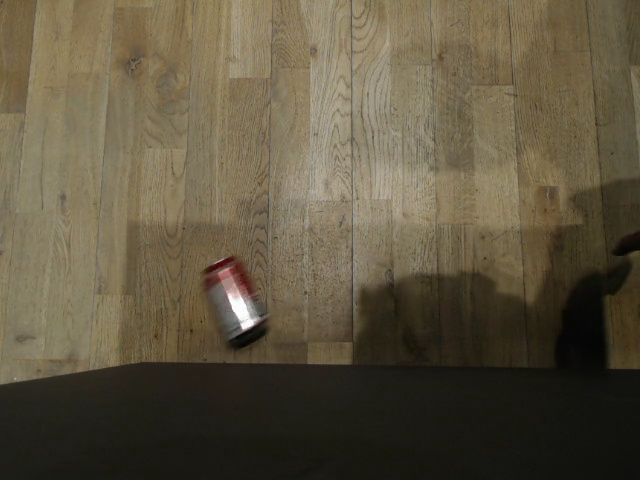cola: (198, 254, 270, 339)
